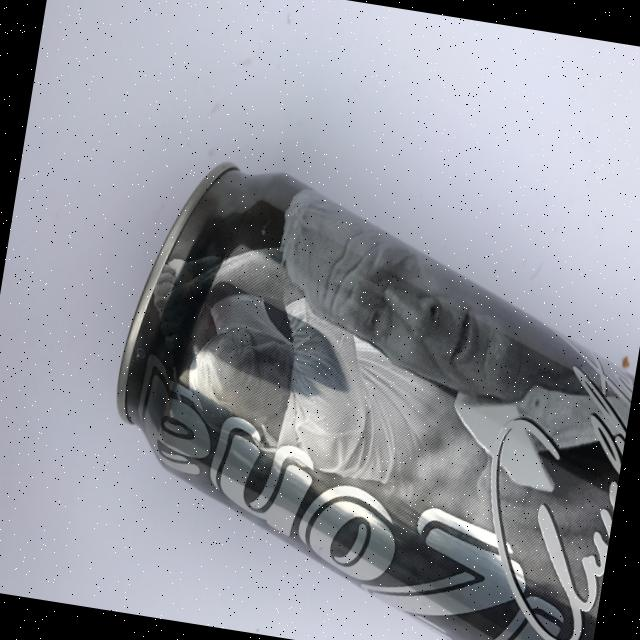metal: (82, 149, 640, 640)
